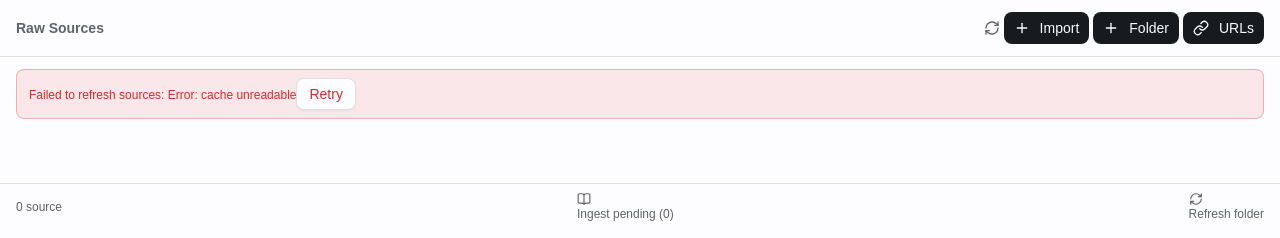
Test: can retry a cache error without forcing a file rescan or switching projects
Click the button "Retry" at (326, 94), box [296,78,356,110]
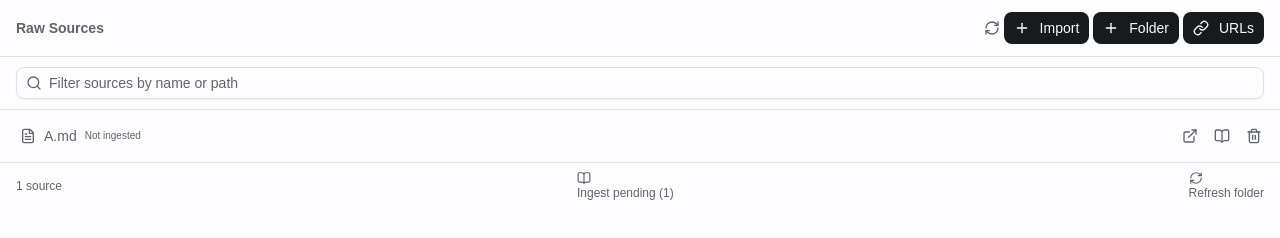
Check: the button "Ingest pending (1)" is enabled, box [577,171,674,201]
Check: the text "cache unreadable" is gone
